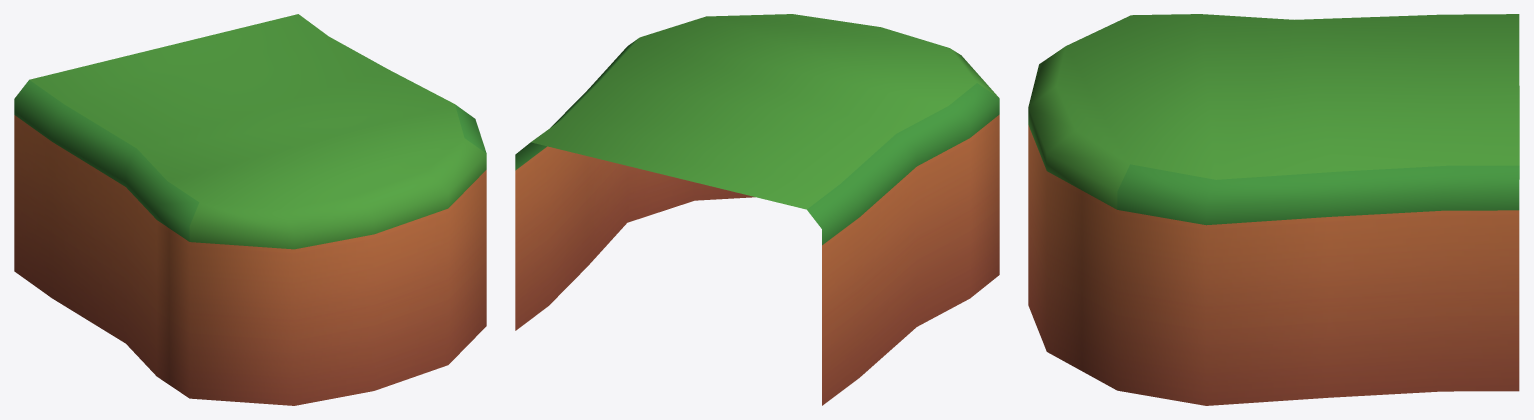
The model's file is End 01.FBX.
3 renders of one model, left to right at view 1: azimuth 30°, elevation 25°; view 2: azimuth 150°, elevation 25°; view 3: azimuth 270°, elevation 25°, orthographic. The views are drawn at different scales.
Visible parts, largest first — view 1: End 01; view 2: End 01; view 3: End 01.
Boxes of the visible parts, <box> form: End 01: <box>14,14,486,405</box>; End 01: <box>515,14,999,405</box>; End 01: <box>1028,14,1519,405</box>.
Size of the model in its own units: 545 by 300 by 616.
1 material, 1 textured.
